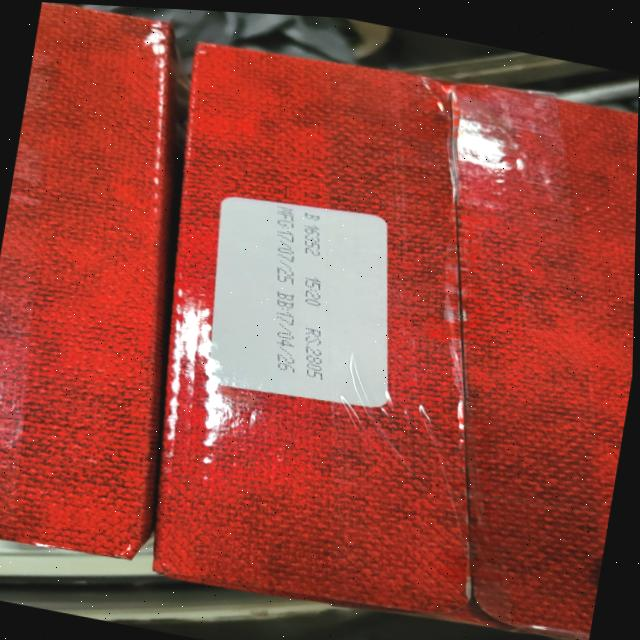BB: (263, 289, 307, 379)
Batch: (298, 210, 328, 260)
MFG: (261, 202, 309, 288)
RS: (294, 325, 333, 382)
TimeStamp: (301, 274, 329, 312)
